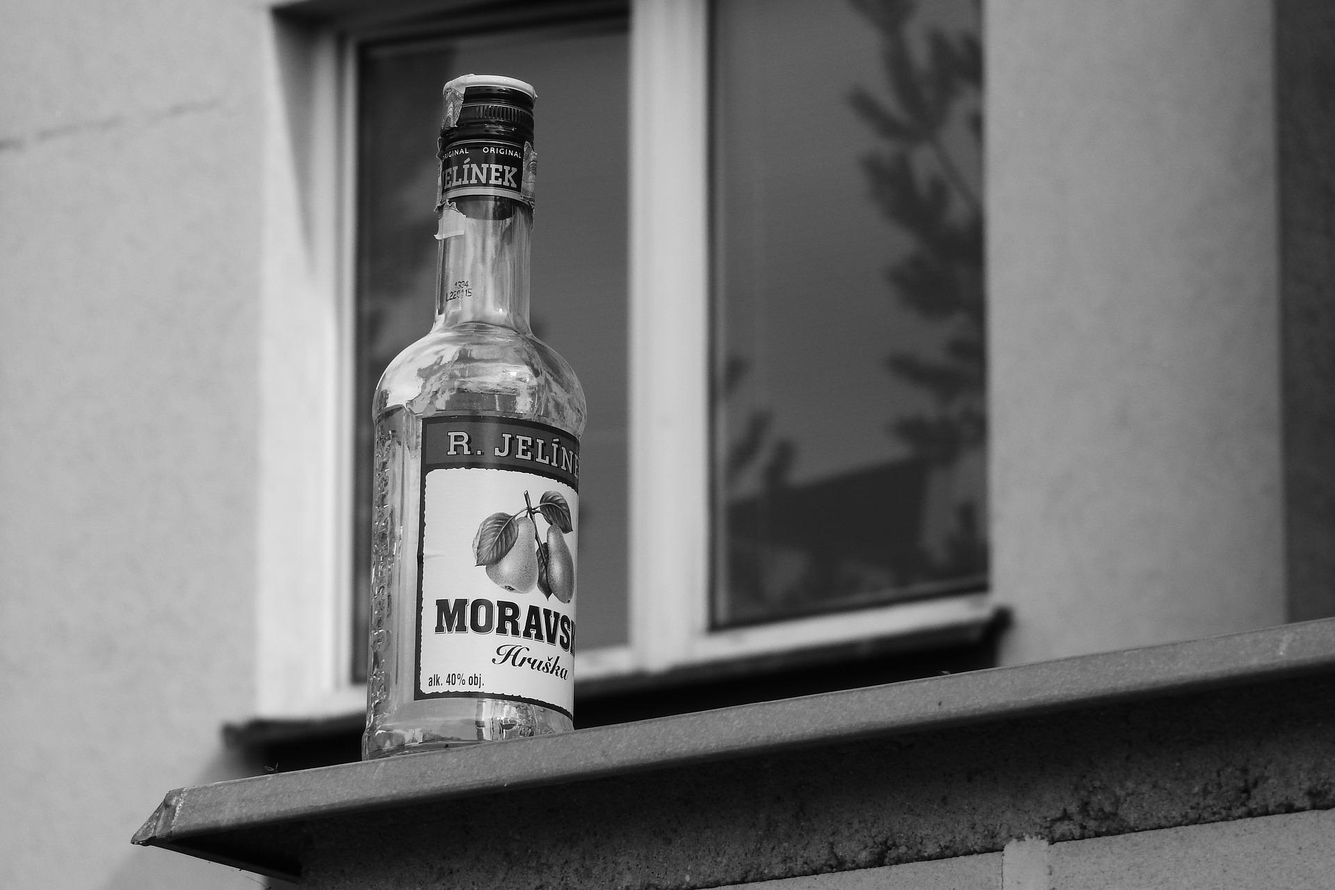bottle-glass: (370, 65, 584, 745)
